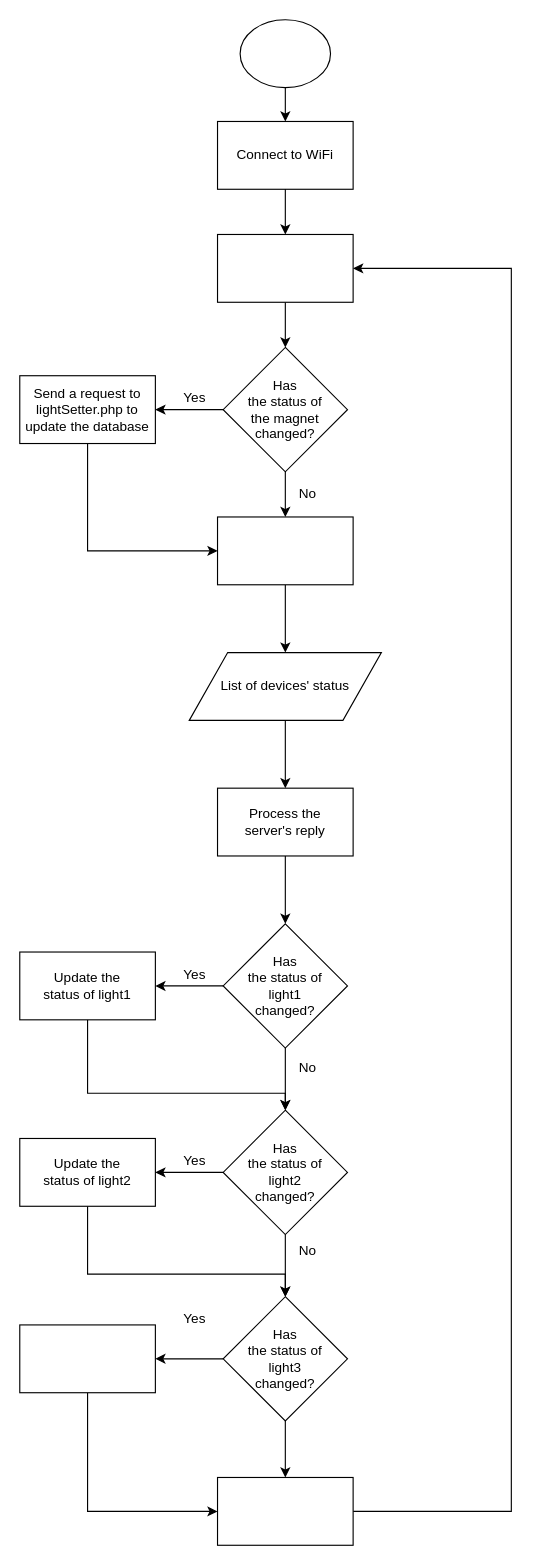
This 540x1565 diagram has some shape labels left out. Here are the shapes that lost their labels. From the top down, the box of each, then its label:
(239, 19, 331, 88): start
(216, 233, 353, 302): Check the status of the magnetic sensor
(216, 516, 353, 585): Send a request to lightGetter.php
(19, 1324, 155, 1393): Update the status of light3
(216, 1476, 353, 1545): Sleep for 1 second
